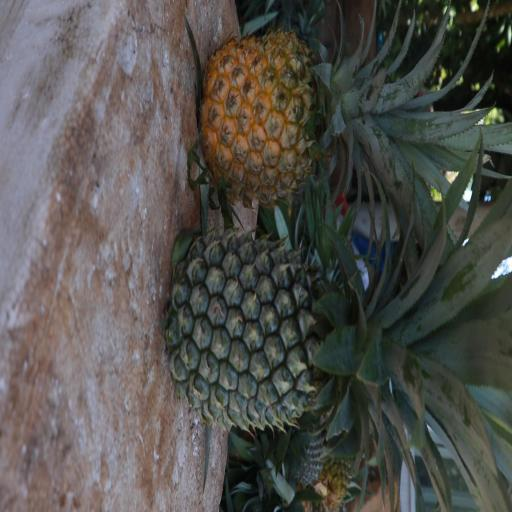Pineapple - v8 v1: (202, 35, 476, 199)
